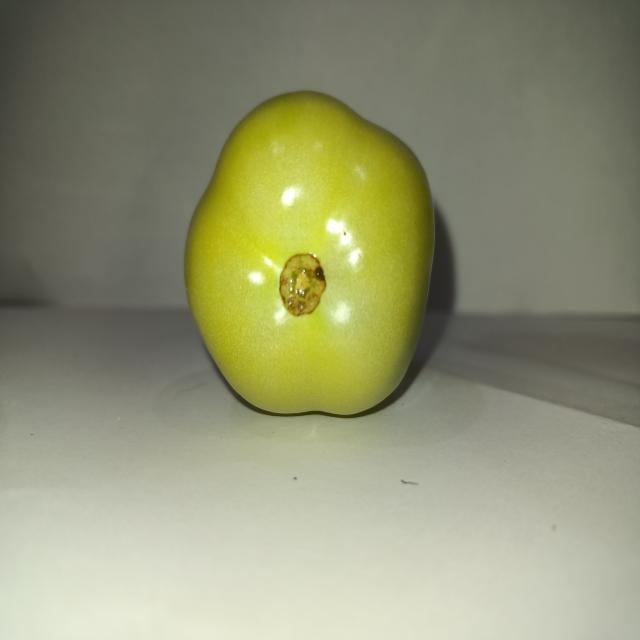Red: (182, 88, 437, 417)
